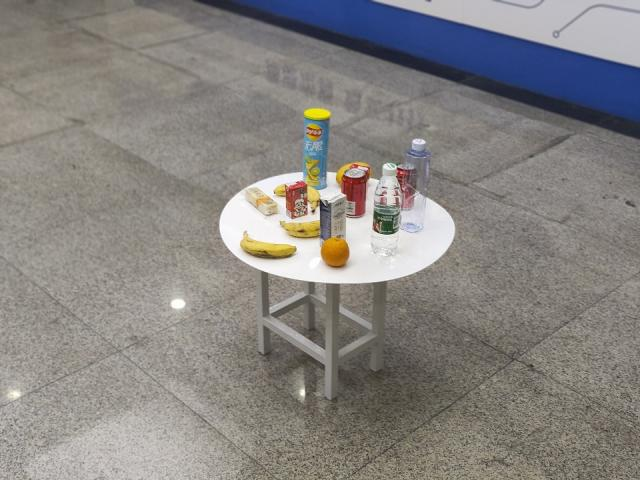Canned_drinks: (345, 169, 368, 214)
bottle: (374, 163, 406, 257), (405, 139, 428, 235)
cylinder: (302, 107, 332, 188)
drink_box: (322, 188, 345, 236), (287, 183, 308, 215)
